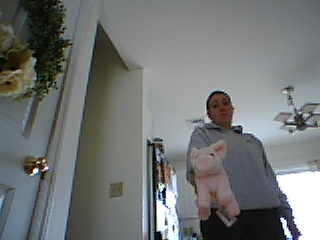piggy: (189, 138, 243, 221)
